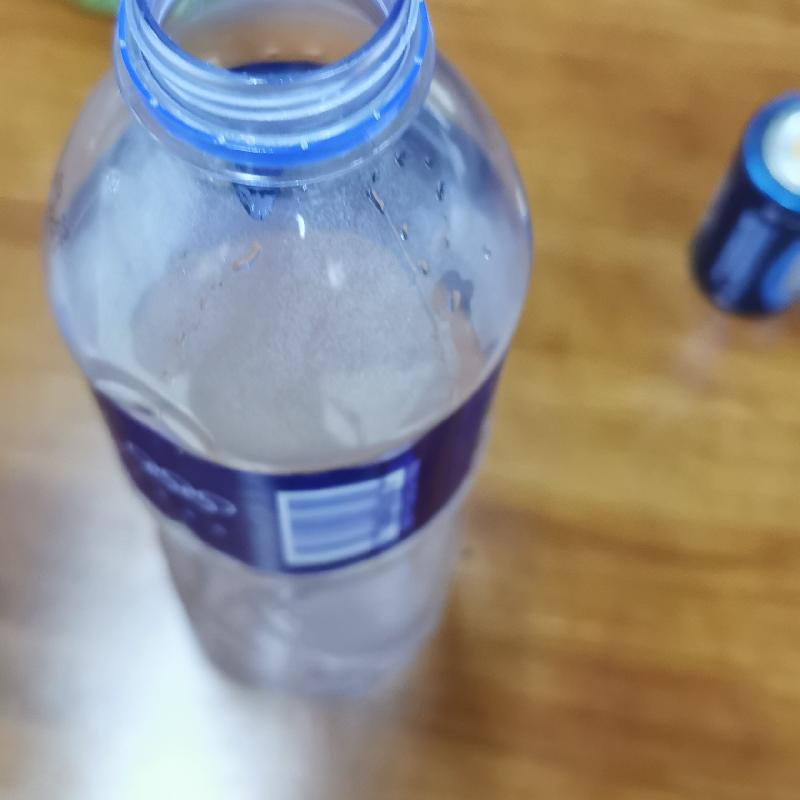bottles: (39, 4, 543, 713)
